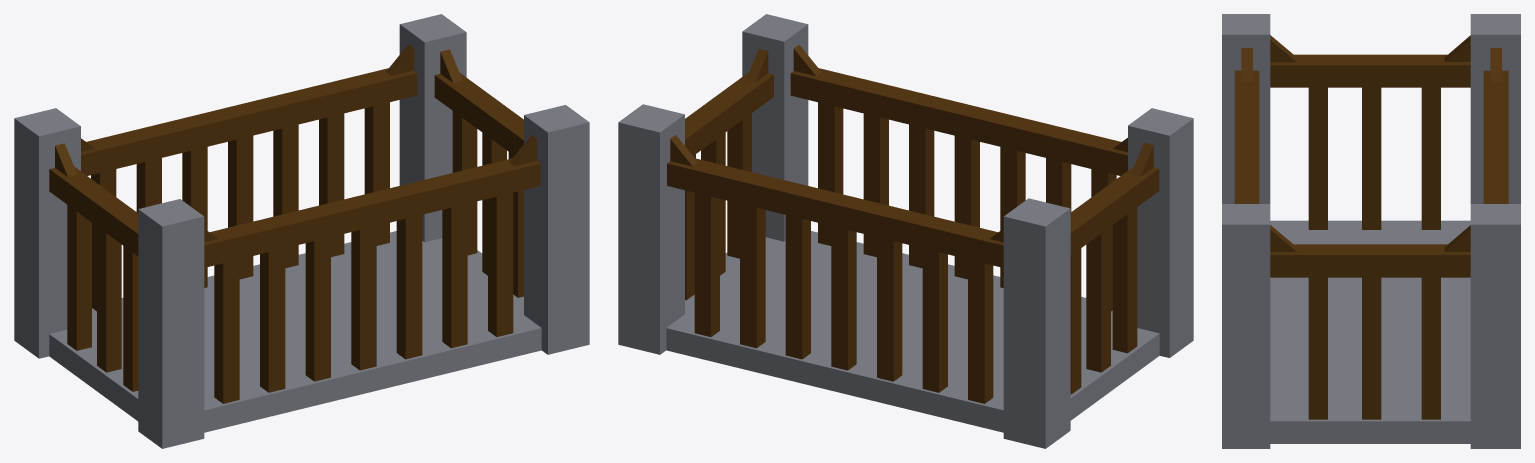
File: Caja_Tipo3.fbx
3 views of the same model, side by side, from view 1: azimuth 30°, elevation 25°; view 2: azimuth 150°, elevation 25°; view 3: azimuth 270°, elevation 25° (orthographic).
Parts seen in each view (by area): view 1: Cubo.025, Cubo.027, Cubo.026, Cubo.028, Cubo.029; view 2: Cubo.025, Cubo.026, Cubo.027, Cubo.028, Cubo.029; view 3: Cubo.025, Cubo.029, Cubo.028, Cubo.026, Cubo.027.
Part boxes in pixels (x1,y1,x2,y2): Cubo.025: (14,14,589,448); Cubo.027: (204,134,540,403); Cubo.026: (81,44,417,311); Cubo.028: (49,143,138,391); Cubo.029: (434,49,523,297); Cubo.025: (618,14,1193,448); Cubo.026: (667,135,1003,403); Cubo.027: (790,44,1127,311); Cubo.028: (1070,142,1159,394); Cubo.029: (685,49,773,300); Cubo.025: (1222,14,1520,448); Cubo.029: (1270,225,1470,419); Cubo.028: (1270,35,1470,229); Cubo.026: (1483,48,1508,203); Cubo.027: (1234,48,1259,203).
Size of the model in its own units: 100 by 49.71 by 60.
5 materials, 5 textured.
